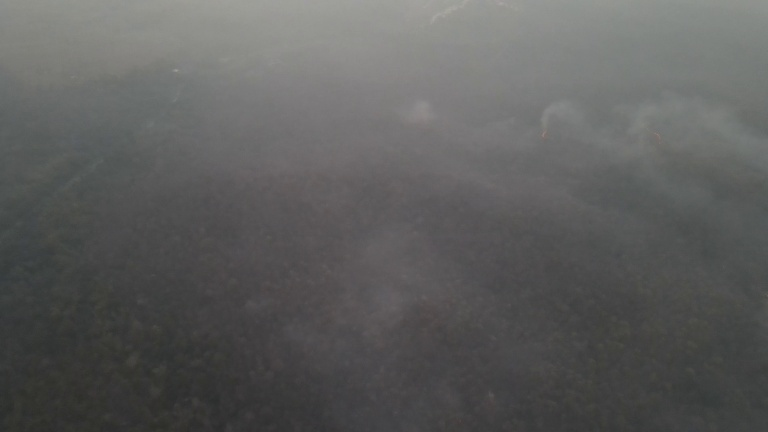fire: (536, 127, 548, 141)
smoke: (612, 83, 768, 184), (531, 99, 595, 149), (390, 95, 448, 126)
